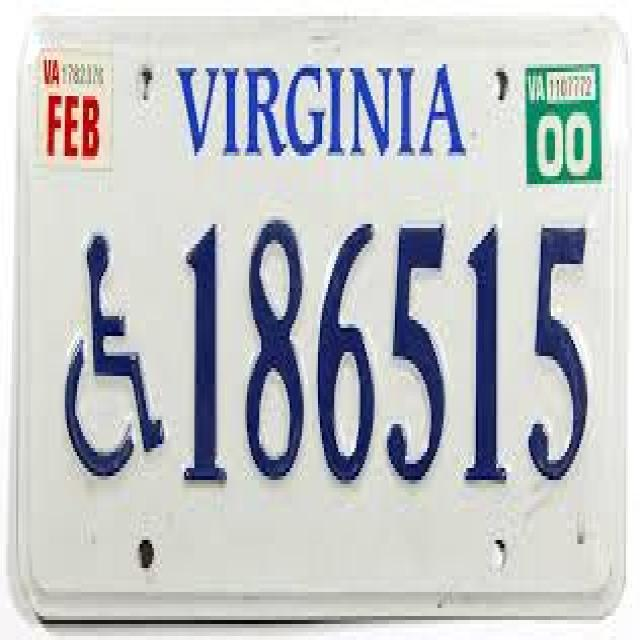car-handicap-placard: (64, 221, 166, 481)
